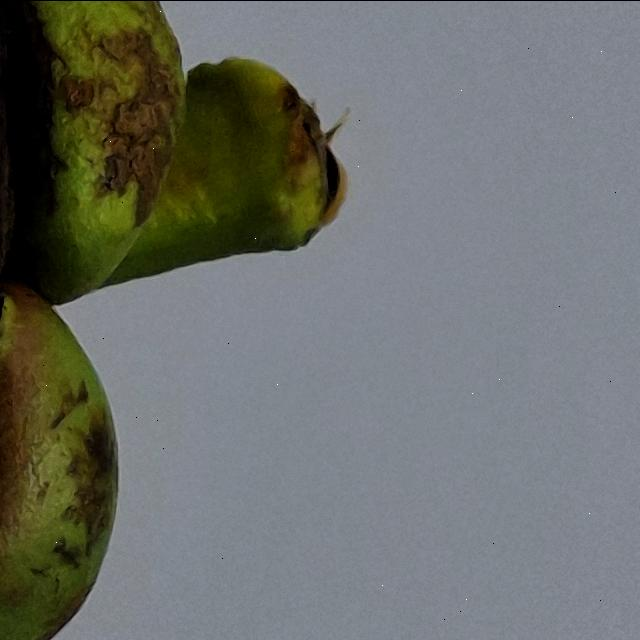mangosteen: (0, 0, 450, 640)
